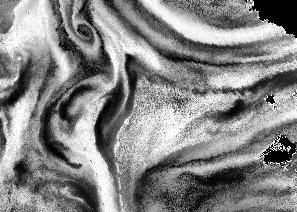CE: (70, 18, 102, 49)
